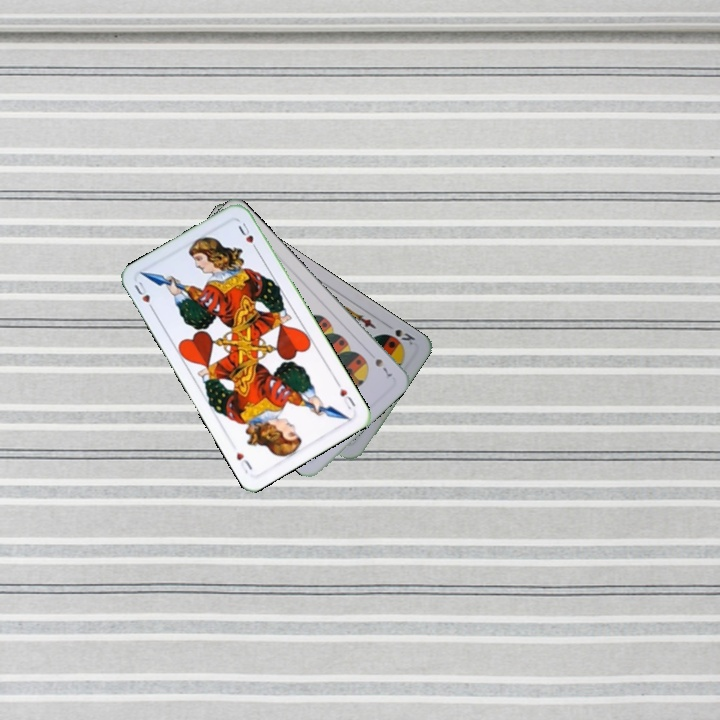HU: (130, 276, 157, 314), (332, 377, 358, 412)
S7: (371, 355, 395, 380)
SK: (391, 325, 418, 348)
